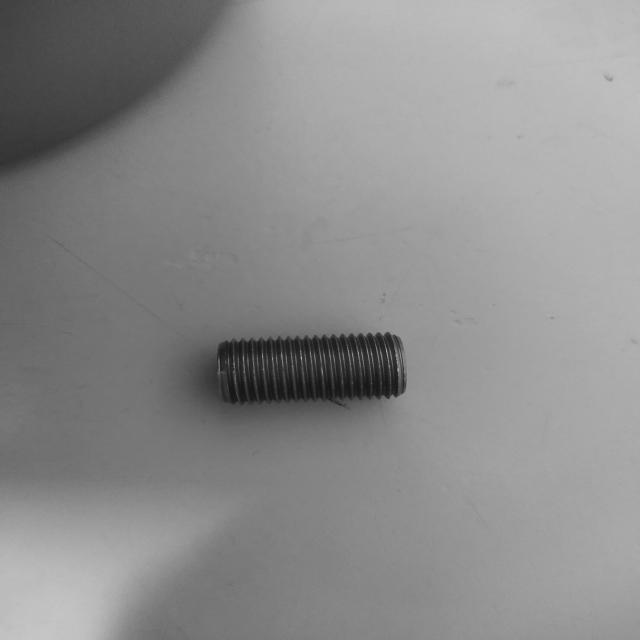Normal: (217, 332, 408, 406)
